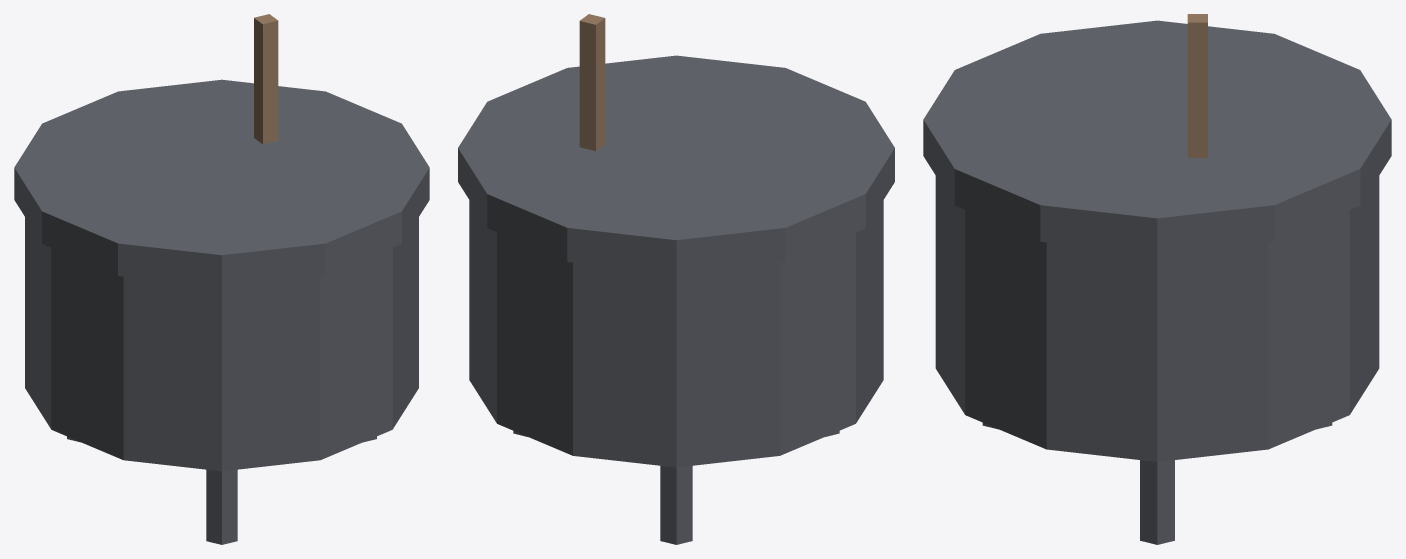
The model's file is haunted_cauldron_large.glb.
The picture shows the model from 3 angles, left to right: view 1: azimuth 30°, elevation 25°; view 2: azimuth 150°, elevation 25°; view 3: azimuth 270°, elevation 25°; orthographic projection. The views are drawn at different scales.
Visible parts, largest first — view 1: Haunted_Cauldron_Large; view 2: Haunted_Cauldron_Large; view 3: Haunted_Cauldron_Large.
Boxes of the visible parts, x1,y1,x2,y2 form: Haunted_Cauldron_Large: (14, 14, 429, 544); Haunted_Cauldron_Large: (458, 14, 894, 544); Haunted_Cauldron_Large: (923, 14, 1391, 544).
Bounding box in the file's own units: 1.16 × 1.3 × 1.16.
